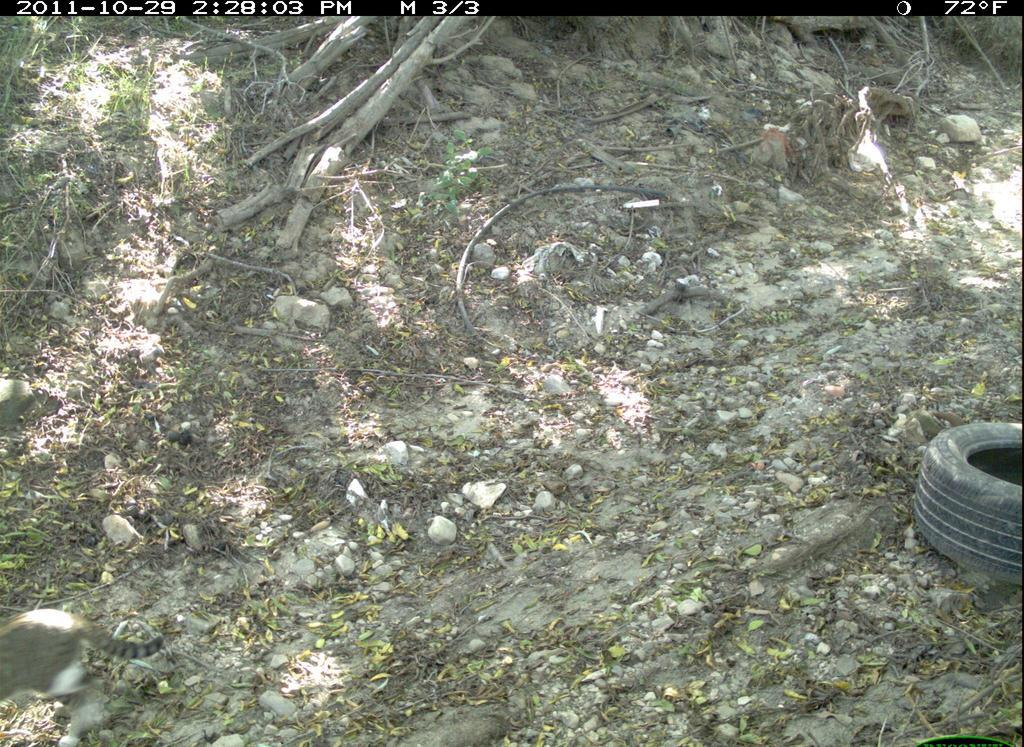cat: (1, 603, 181, 747)
